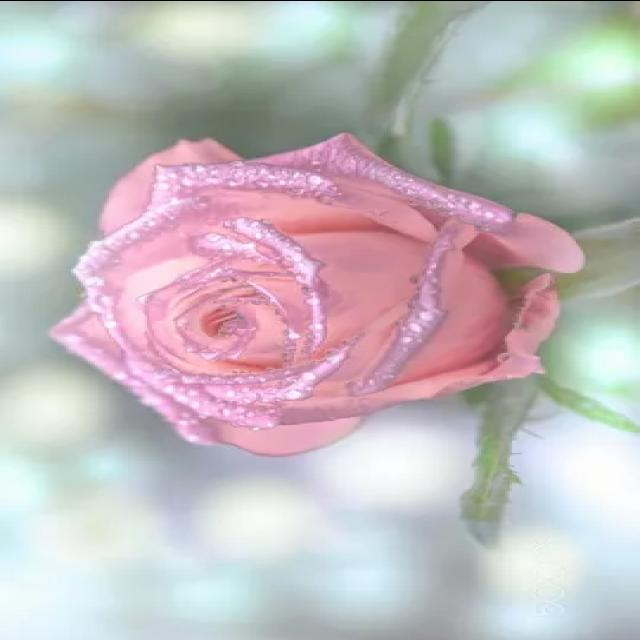rose: (36, 111, 588, 466)
